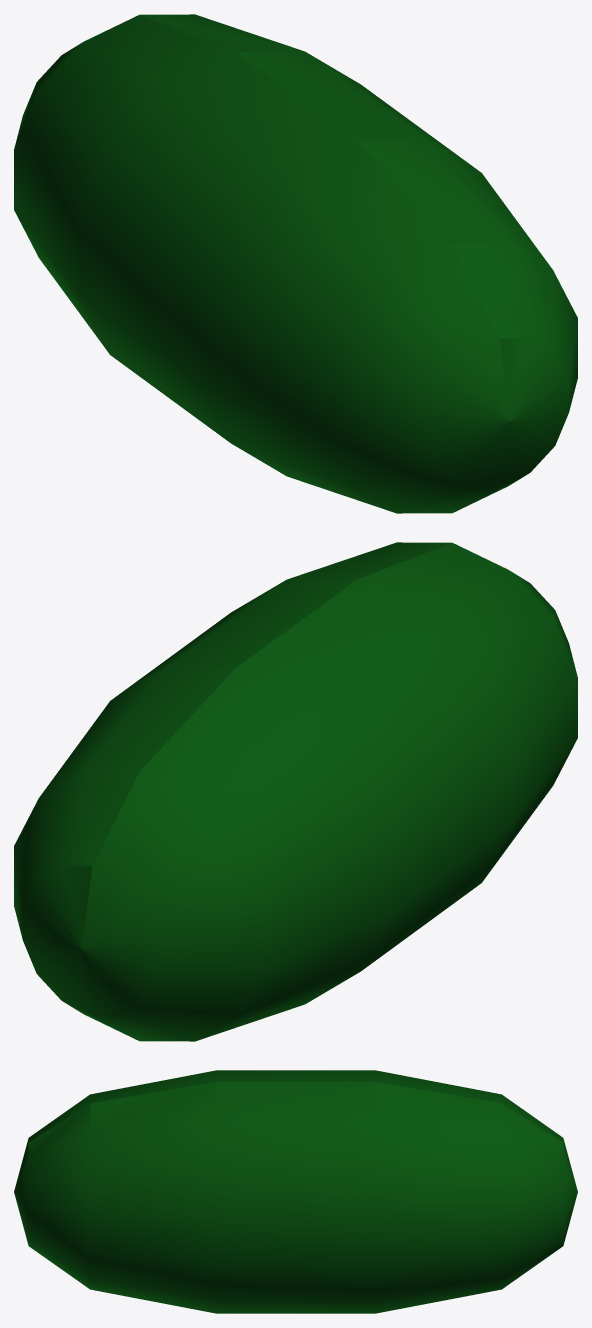
The model's file is 2Foliage.DAE.
3 views of the same model, one above another, from view 1: azimuth 30°, elevation 25°; view 2: azimuth 150°, elevation 25°; view 3: azimuth 270°, elevation 25° (orthographic). The views are drawn at different scales.
Parts seen in each view (by area): view 1: Sphere017; view 2: Sphere017; view 3: Sphere017.
Boxes of the visible parts, box(x1,y1,x2,y2) form: Sphere017: box(14, 14, 577, 513); Sphere017: box(14, 542, 577, 1041); Sphere017: box(14, 1070, 577, 1313).
Bounding box in the file's own units: 23.33 × 23.93 × 55.46.
